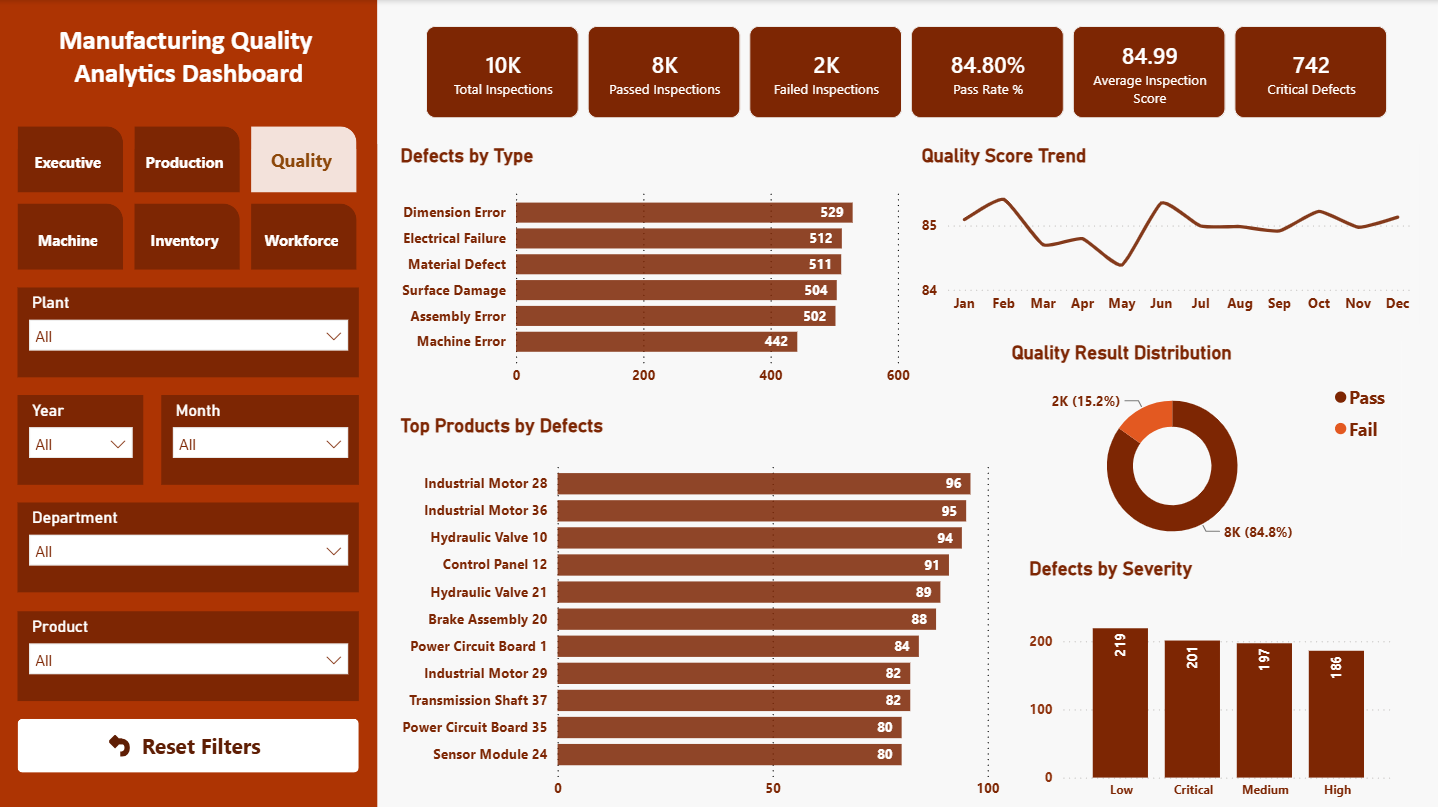

The dashboard page shown, as its layout file describes it:
{"tool":"powerbi","page":{"name":"Quality","canvas":[1280,720],"ordinal":2},"visuals":[{"type":"group","id":"g1","title":"Sidebar","box":[0,0,336,720],"z":0},{"type":"textbox","box":[0,0,336,720],"z":500,"group":"g1"},{"type":"cardVisual","fields":{"Data":["Metrics.Total Inspections","Metrics.Passed Inspections","Metrics.Failed Inspections","Metrics.Pass Rate %","Metrics.Average Inspection Score","Metrics.Critical Defects"]},"box":[336,0,944,128],"z":1000},{"type":"slicer","fields":{"Values":["Date.Month"]},"box":[144,352,176,80],"z":1000,"group":"g1"},{"type":"donutChart","title":"Quality Result Distribution","fields":{"Category":["Quality Check.inspection_result"],"Y":["Metrics.Total Inspections"]},"box":[896,304,352,192],"z":2000},{"type":"slicer","fields":{"Values":["Date.Year"]},"box":[16,352,112,80],"z":2000,"group":"g1"},{"type":"clusteredBarChart","title":"Defects by Type","fields":{"Category":["Defect.defect_type"],"Y":["Metrics.Total Defects"]},"box":[352,128,464,224],"z":3000},{"type":"slicer","title":"Plant","fields":{"Values":["Plant.plant_name"]},"box":[16,256,304,80],"z":4000,"group":"g1"},{"type":"clusteredColumnChart","title":"Defects by Severity","fields":{"Category":["Defect.severity"],"Y":["Metrics.Total Defects"]},"box":[912,496,336,224],"z":4000},{"type":"lineChart","title":"Quality Score Trend","fields":{"Y":["Metrics.Average Inspection Score"],"Category":["Date.Month Sh"]},"box":[816,128,448,160],"z":5000},{"type":"clusteredBarChart","title":"Top Products by Defects","fields":{"Category":["Product.product_name"],"Y":["Metrics.Total Defects"]},"box":[352,368,544,352],"z":6000},{"type":"pageNavigator","box":[16,112,304,128],"z":9000},{"type":"slicer","title":"Plant","fields":{"Values":["Department.department_name"]},"box":[16,448,304,80],"z":10000,"group":"g1"},{"type":"slicer","title":"Plant","fields":{"Values":["Product.product_name"]},"box":[16,544,304,80],"z":11000,"group":"g1"},{"type":"actionButton","box":[16,640,304,48],"z":12000,"group":"g1"}]}

Visuals, with their boxes in screenshot pixels (x1, y1, x2, y2), scaled from the page's 1280x720 canvas onto the 1438x807 screenshot:
"Sidebar" group: {"left": 0, "top": 0, "right": 377, "bottom": 806}
textbox: {"left": 0, "top": 0, "right": 377, "bottom": 806}
cardVisual - Metrics.Total Inspections x Metrics.Passed Inspections: {"left": 377, "top": 0, "right": 1437, "bottom": 143}
slicer - Date.Month: {"left": 162, "top": 395, "right": 360, "bottom": 484}
"Quality Result Distribution" donutChart: {"left": 1007, "top": 341, "right": 1402, "bottom": 556}
slicer - Date.Year: {"left": 18, "top": 395, "right": 144, "bottom": 484}
"Defects by Type" clusteredBarChart: {"left": 395, "top": 143, "right": 917, "bottom": 395}
"Plant" slicer: {"left": 18, "top": 287, "right": 360, "bottom": 377}
"Defects by Severity" clusteredColumnChart: {"left": 1025, "top": 556, "right": 1402, "bottom": 806}
"Quality Score Trend" lineChart: {"left": 917, "top": 143, "right": 1420, "bottom": 323}
"Top Products by Defects" clusteredBarChart: {"left": 395, "top": 412, "right": 1007, "bottom": 806}
pageNavigator: {"left": 18, "top": 126, "right": 360, "bottom": 269}
"Plant" slicer: {"left": 18, "top": 502, "right": 360, "bottom": 592}
"Plant" slicer: {"left": 18, "top": 610, "right": 360, "bottom": 699}
actionButton: {"left": 18, "top": 717, "right": 360, "bottom": 771}
